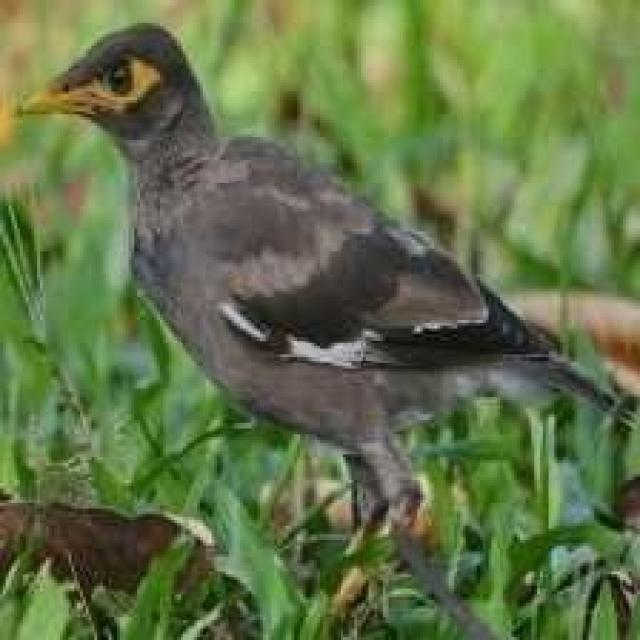bird: (8, 24, 640, 610)
